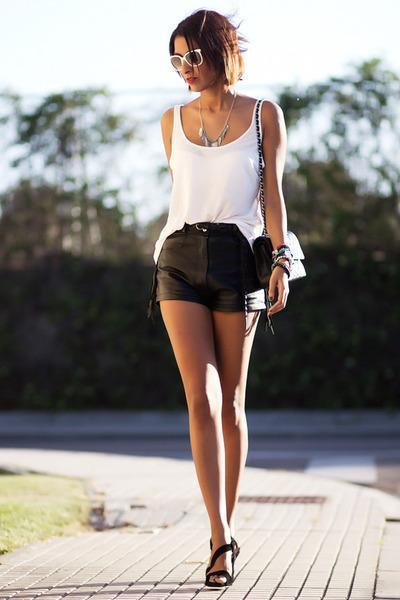shirt: (153, 108, 264, 263)
shoe: (205, 540, 239, 586)
shorts: (144, 222, 289, 317)
